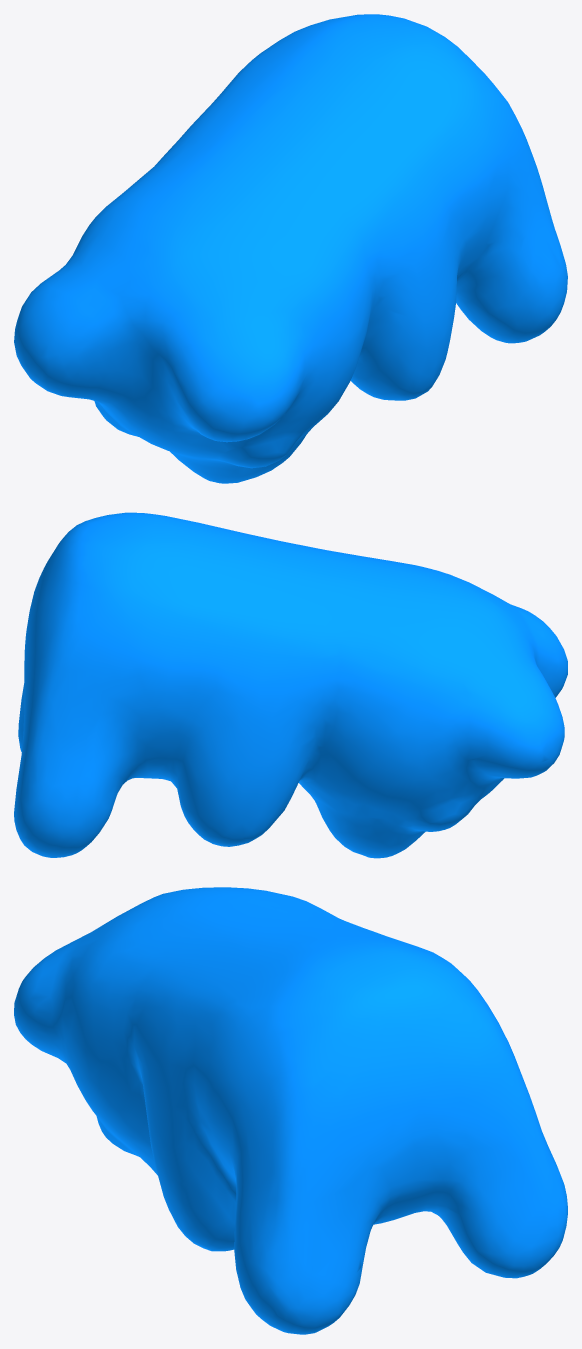
The picture shows the model from 3 angles, top to bottom: view 1: azimuth 30°, elevation 25°; view 2: azimuth 150°, elevation 25°; view 3: azimuth 270°, elevation 25°; orthographic projection. The views are drawn at different scales.
Parts seen in each view (by area): view 1: bear.007; view 2: bear.007; view 3: bear.007.
Boxes of the visible parts, bbox=[...] form: bear.007: bbox=[14, 14, 567, 483]; bear.007: bbox=[14, 512, 567, 858]; bear.007: bbox=[14, 887, 567, 1334].
Size of the model in its own units: 1.02 by 0.6152 by 0.864.
